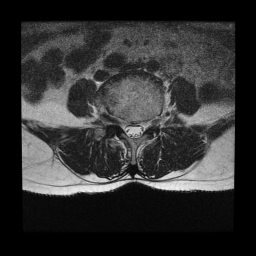CCS_normal: (130, 116, 137, 143)
LFS_normal: (145, 112, 153, 133)
LLS_normal: (137, 115, 145, 139)
RFS_normal: (114, 110, 122, 133)
RLS_normal: (123, 114, 130, 138)
